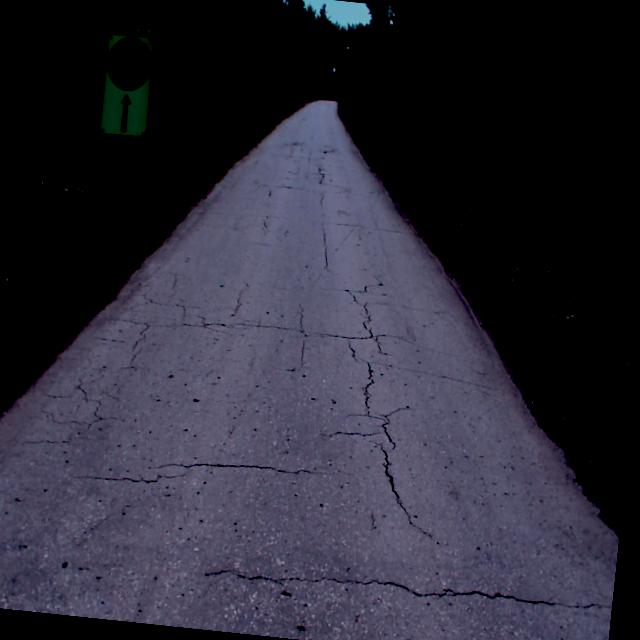road: (0, 99, 619, 640)
